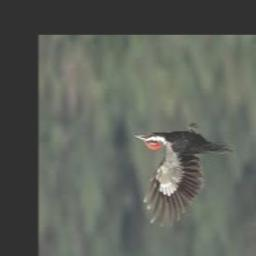Woodpecker: (134, 123, 233, 228)
